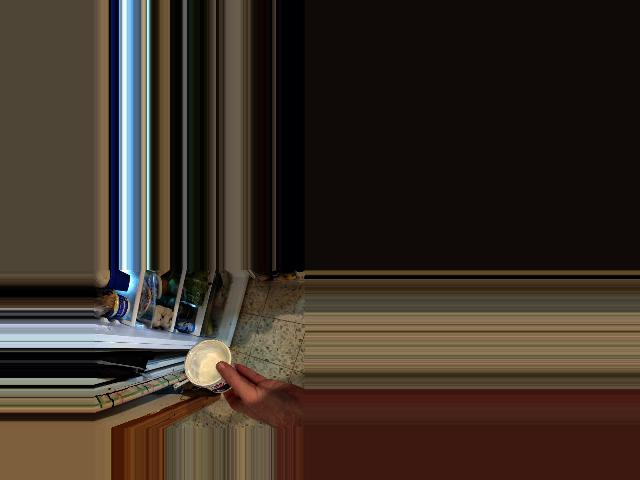cotage: (181, 339, 236, 397)
